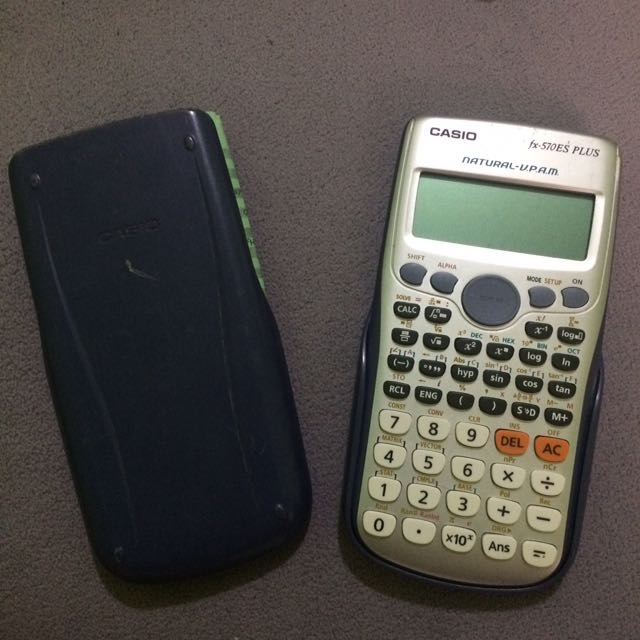Calculator: (338, 112, 626, 610)
